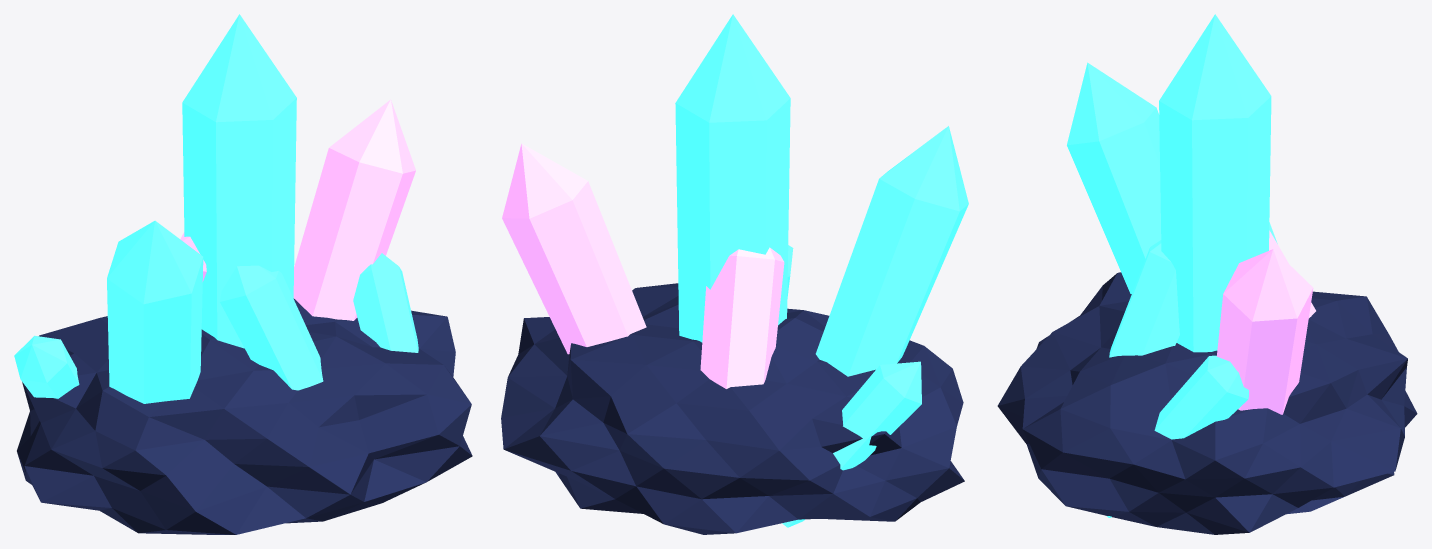
Rendered from crystal_cluster.glb.
3 views of the same model, side by side, from view 1: azimuth 30°, elevation 25°; view 2: azimuth 150°, elevation 25°; view 3: azimuth 270°, elevation 25° (orthographic). The views are drawn at different scales.
Parts seen in each view (by area): view 1: crystal_cluster; view 2: crystal_cluster; view 3: crystal_cluster.
Boxes of the visible parts, <box> form: crystal_cluster: <box>14,14,472,534</box>; crystal_cluster: <box>501,14,968,534</box>; crystal_cluster: <box>997,14,1417,534</box>.
Bounding box in the file's own units: 2.72 × 2.7 × 2.38.
